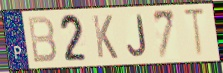2: (59, 11, 92, 66)
7: (152, 8, 177, 62)
B: (26, 14, 59, 65)
J: (126, 13, 148, 58)
K: (91, 14, 120, 61)
T: (182, 7, 208, 59)
